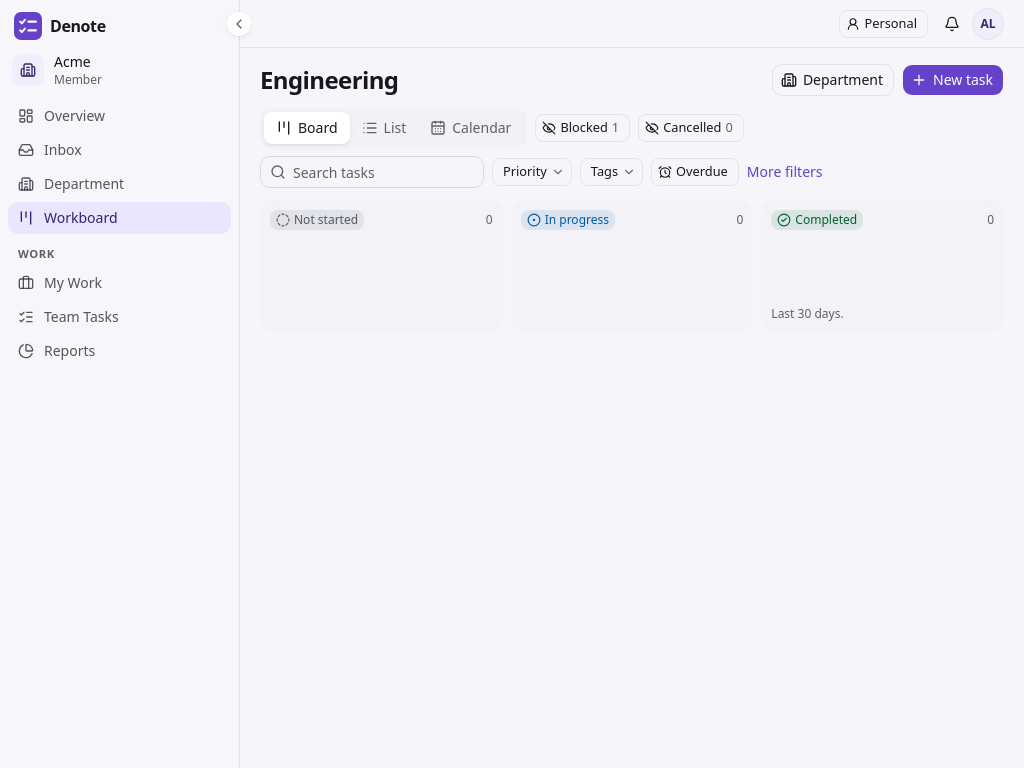
Test: department board › swaps the board for Blocked on request, with its count on the toggle
This screenshot has width=1024, height=768.
Click the button with aria-label "Show Blocked column, 1 tasks".
click(583, 128)  # box [535,114,630,142]
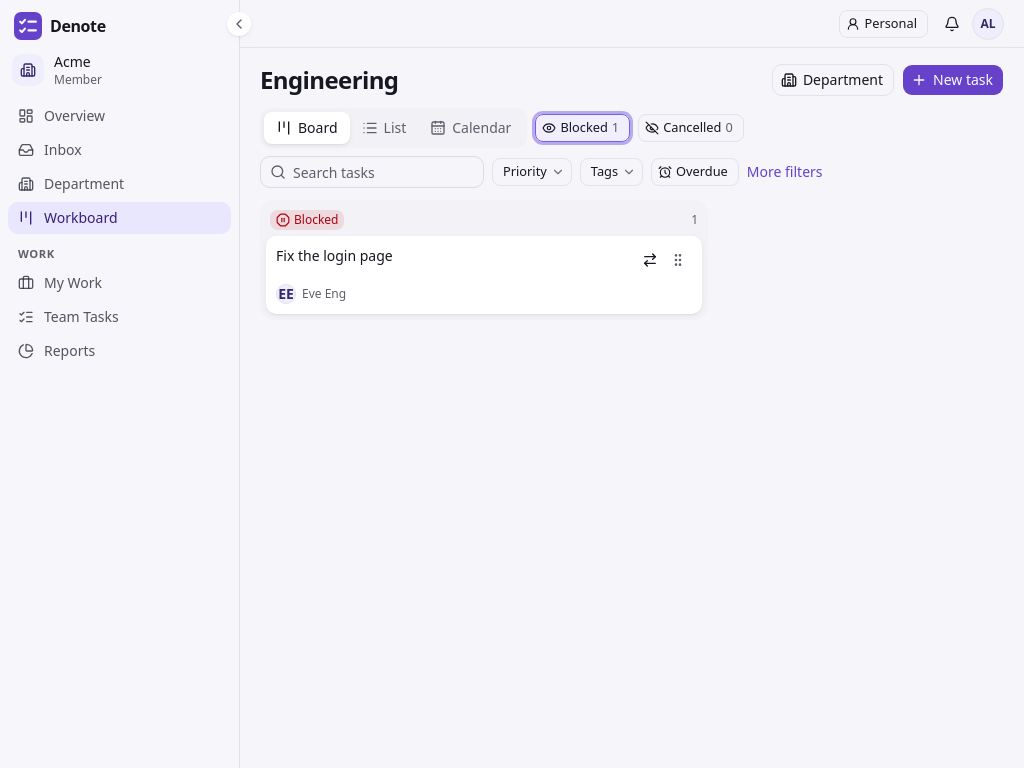
Result: the element named "Blocked, 1 tasks" is shown at [260,200,708,320]
Click the button with aria-label "Show Blocked column, 1 tasks".
click(583, 128)  # box [535,114,630,142]
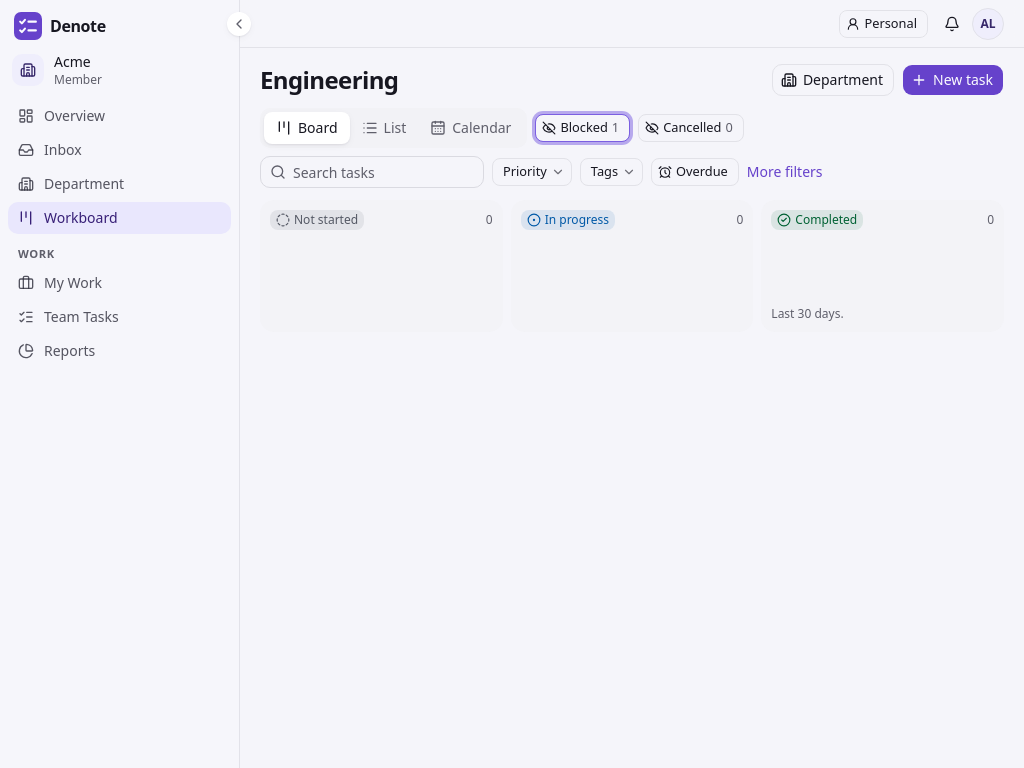
Result: the element named "Not started, 0 tasks" is shown at [260,200,503,332]
